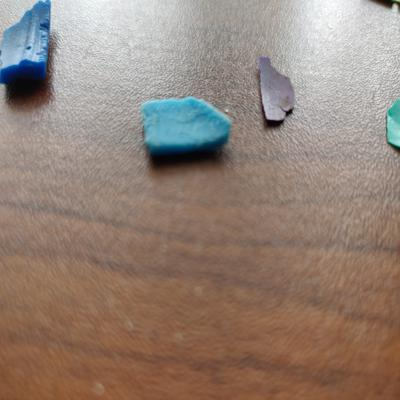plastic: (134, 92, 237, 166), (1, 1, 57, 85), (254, 51, 307, 129), (382, 93, 400, 158)
